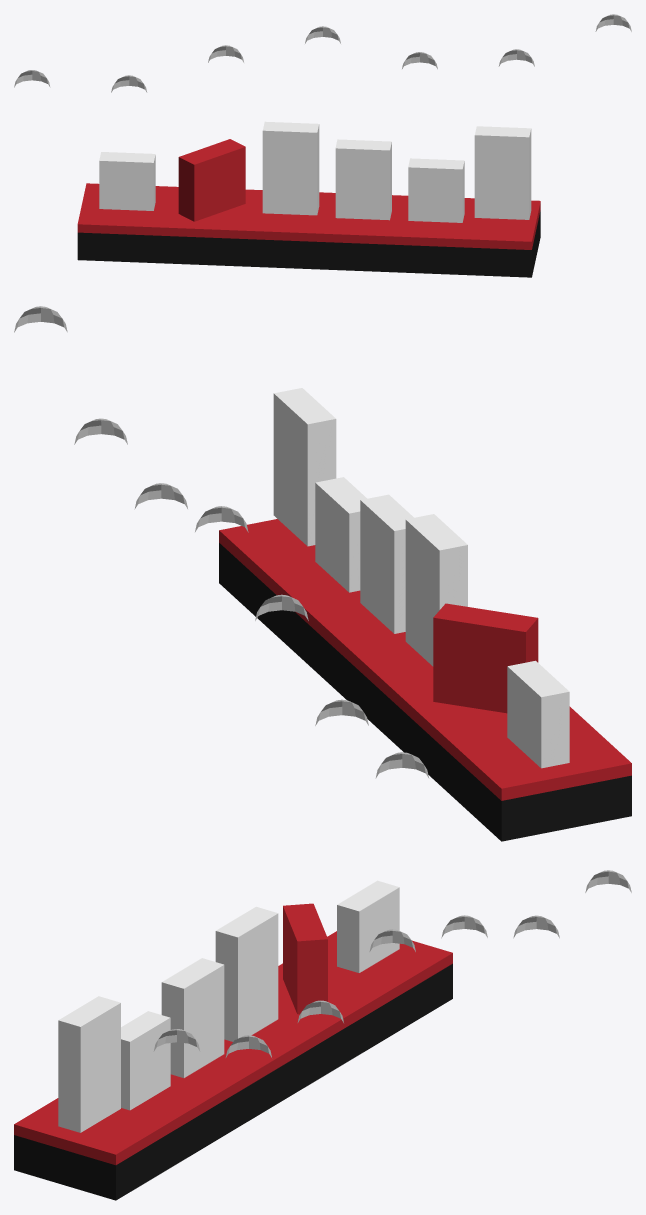
Rendered from wf_iheart.glb.
3 renders of one model, top to bottom at view 1: azimuth 30°, elevation 25°; view 2: azimuth 150°, elevation 25°; view 3: azimuth 270°, elevation 25°, orthographic. The views are drawn at different scales.
Parts seen in each view (by area): view 1: wf_iheart_lod0; view 2: wf_iheart_lod0; view 3: wf_iheart_lod0.
Part boxes in pixels (x1,y1,x2,y2): wf_iheart_lod0: (14, 14, 631, 277); wf_iheart_lod0: (14, 306, 631, 841); wf_iheart_lod0: (14, 870, 631, 1200).
Size of what is drawn, in the model's own units: 9.19 by 3.26 by 7.93.
